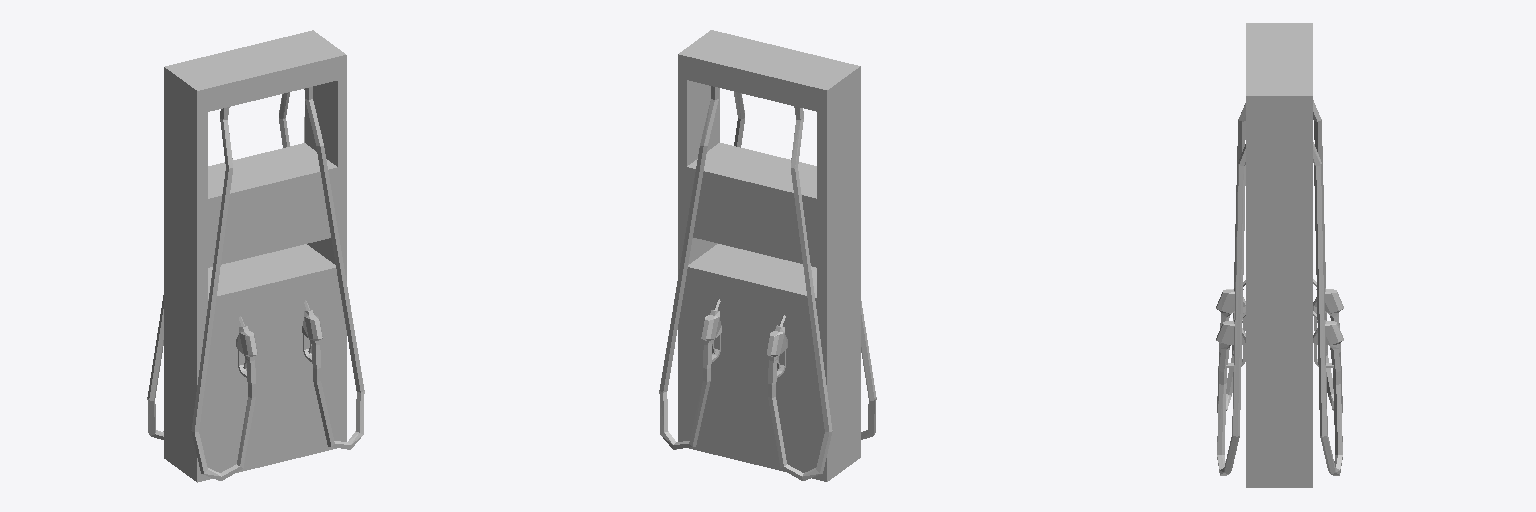
The model's file is gas.obj.
The picture shows the model from 3 angles: view 1: azimuth 30°, elevation 25°; view 2: azimuth 150°, elevation 25°; view 3: azimuth 270°, elevation 25°; orthographic projection.
Visible parts, largest first — view 1: Fuel_pumpFBXASC046001; view 2: Fuel_pumpFBXASC046001; view 3: Fuel_pumpFBXASC046001.
Part boxes in pixels (left/top/right/bottom): Fuel_pumpFBXASC046001: left=147, top=30, right=364, bottom=482; Fuel_pumpFBXASC046001: left=659, top=30, right=876, bottom=481; Fuel_pumpFBXASC046001: left=1216, top=23, right=1343, bottom=487.
Bounding box in the file's own units: 129 × 281 × 82.84.